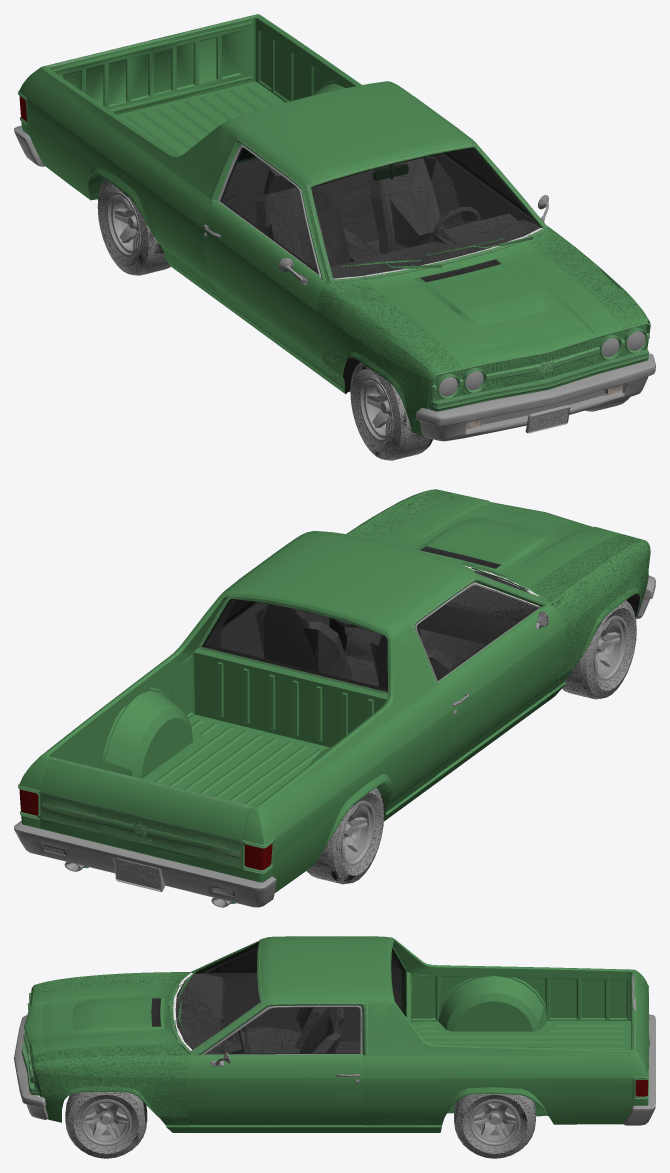
The model's file is Pickup.FBX.
3 views of the same model, one above another, from view 1: azimuth 30°, elevation 25°; view 2: azimuth 150°, elevation 25°; view 3: azimuth 270°, elevation 25° (orthographic). The views are drawn at different scales.
Parts seen in each view (by area): view 1: Body, Interior, Front Window, Right Door, Hood, Rear Trunk, Right Fender, Front Bumper, Wheel_FR, Wheel_RR, Left Door, Left Fender (+1 smaller); view 2: Body, Right Door, Rear Trunk, Interior, Hood, Rear Window, Right Fender, Rear Bumper, Wheel_FR, Wheel_RR, Left Fender, Left Door (+1 smaller); view 3: Body, Left Door, Left Fender, Hood, Interior, Front Window, Wheel_FL, Wheel_RL, Right Door, Right Fender, Rear Trunk, Front Bumper (+2 smaller).
Part boxes in pixels (x1,y1,x2,y2): Body: [18, 14, 650, 411]; Interior: [222, 156, 542, 279]; Front Window: [311, 148, 540, 278]; Right Door: [202, 145, 328, 374]; Hood: [366, 240, 613, 355]; Rear Trunk: [48, 15, 253, 114]; Right Fender: [317, 280, 460, 435]; Front Bumper: [416, 353, 655, 441]; Wheel_FR: [350, 362, 433, 460]; Wheel_RR: [97, 179, 170, 275]; Left Door: [435, 149, 550, 228]; Left Fender: [527, 227, 650, 347]; Body: [18, 494, 648, 903]; Right Door: [415, 582, 566, 774]; Rear Trunk: [38, 756, 253, 876]; Interior: [205, 565, 538, 691]; Hood: [379, 497, 613, 587]; Rear Window: [202, 599, 387, 691]; Right Fender: [529, 534, 650, 702]; Rear Bumper: [14, 820, 276, 907]; Wheel_FR: [562, 600, 636, 699]; Wheel_RR: [306, 788, 383, 884]; Left Fender: [330, 489, 459, 649]; Left Door: [221, 600, 328, 657]; Body: [21, 936, 648, 1132]; Left Door: [185, 1005, 362, 1124]; Left Fender: [31, 1043, 195, 1132]; Hood: [42, 982, 178, 1051]; Interior: [173, 955, 401, 1053]; Front Window: [175, 942, 260, 1049]; Wheel_FL: [65, 1092, 147, 1158]; Wheel_RL: [454, 1094, 535, 1158]; Right Door: [202, 948, 359, 1041]; Right Fender: [31, 972, 189, 995]; Rear Trunk: [631, 972, 649, 1069]; Front Bumper: [14, 1015, 48, 1119].
Bounding box in the file's own units: 256 × 181 × 685.
